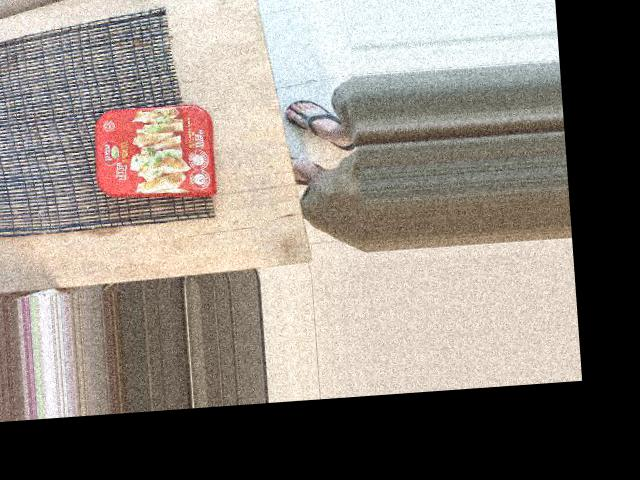cheese: (52, 10, 208, 167)
